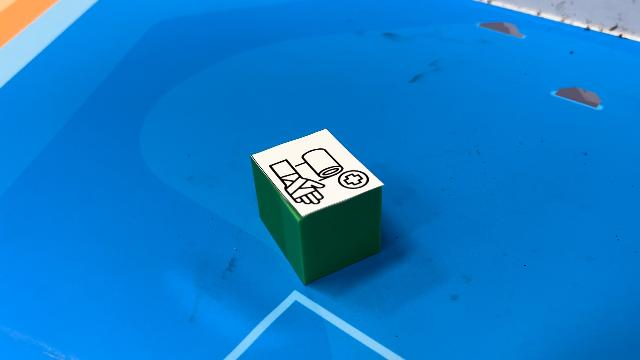bandage: (248, 127, 386, 285)
